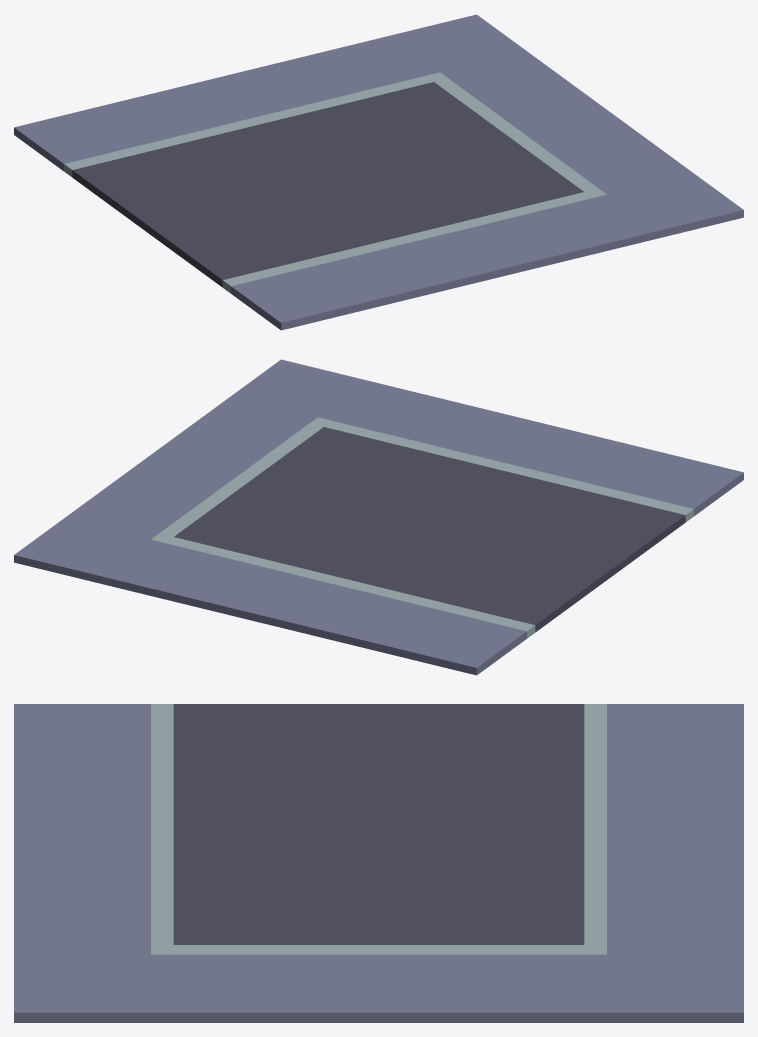
File: Ground_008.obj
3 renders of one model, top to bottom at view 1: azimuth 30°, elevation 25°; view 2: azimuth 150°, elevation 25°; view 3: azimuth 270°, elevation 25°, orthographic. The views are drawn at different scales.
Bounding box in the file's own units: 6.4 × 0.1 × 6.4.
Materials: 1 (1 with a texture image).
